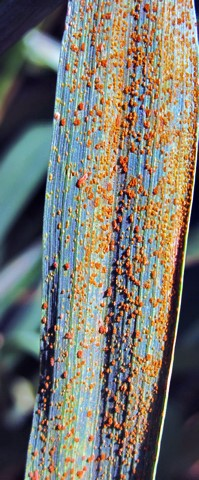Leaf Rust: (21, 30, 199, 465)
